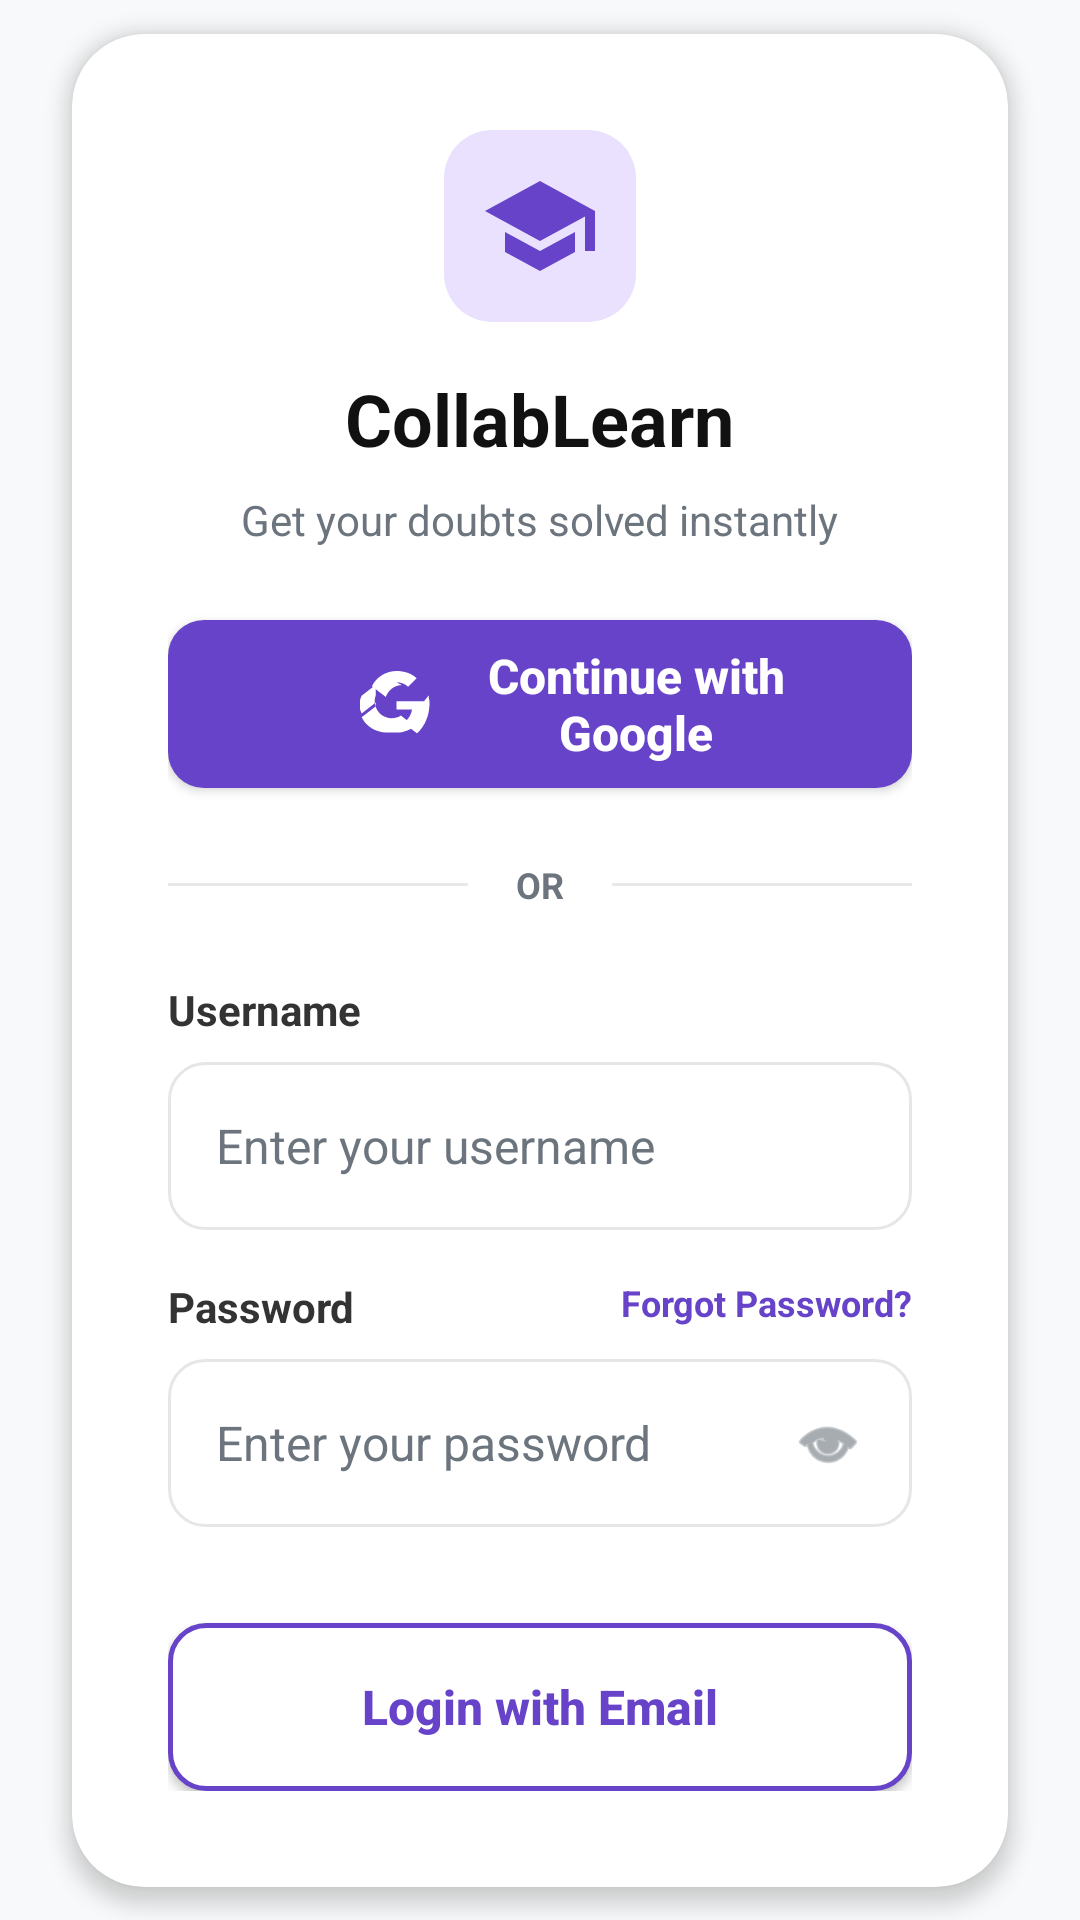

Icons on this 1080*1920 Android screen, each with its box as Rect(x1, y1, x2, y2):
graduation cap: Rect(444, 130, 636, 322)
view: Rect(799, 1427, 857, 1463)
